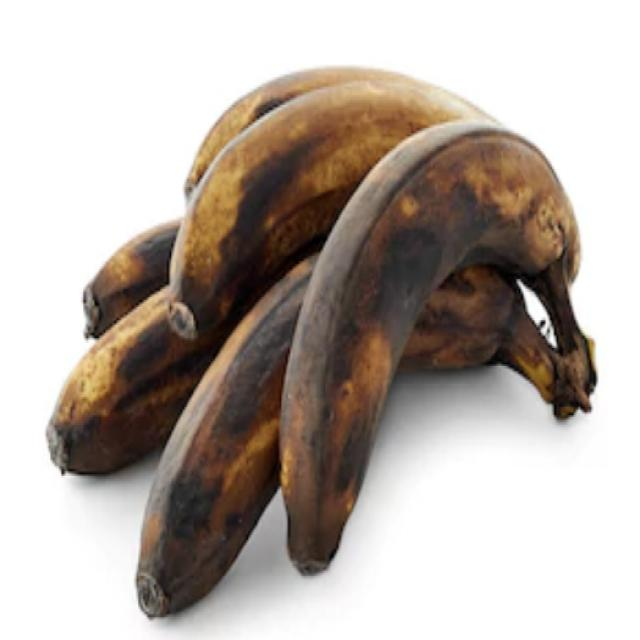rotten-banana: (281, 122, 579, 578), (138, 273, 294, 619), (193, 72, 419, 273), (48, 317, 184, 485)
